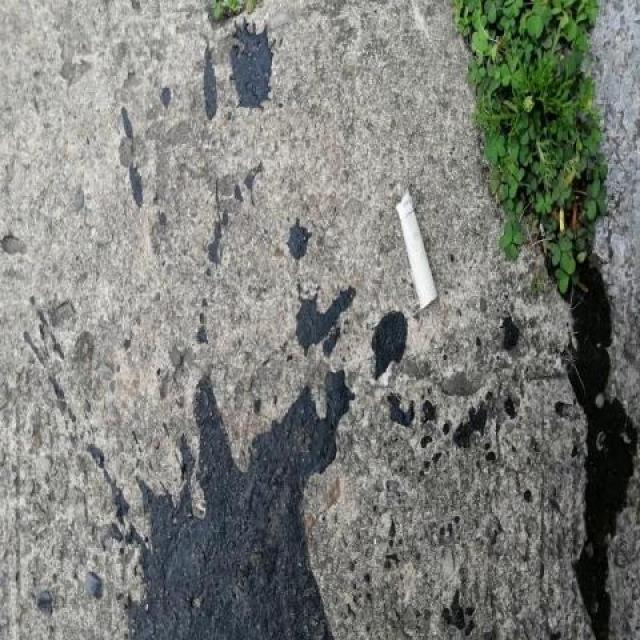non-organic waste: (389, 186, 442, 318)
